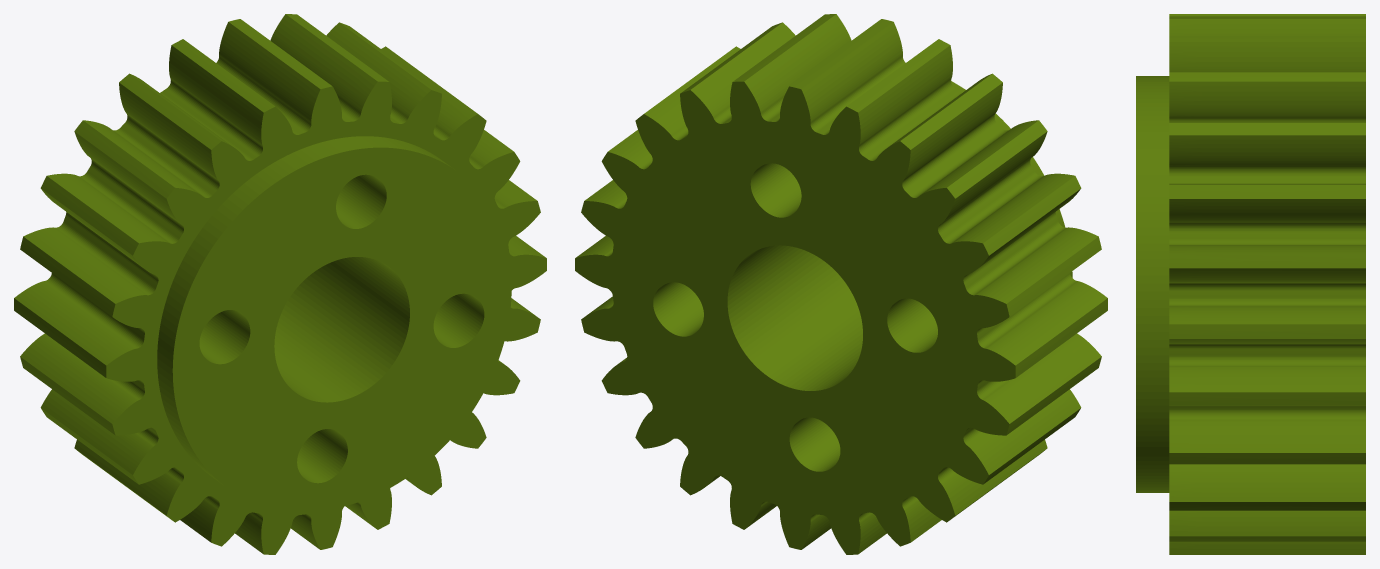
Rendered from spur-gear__v0.glb.
3 renders of one model, left to right at view 1: azimuth 30°, elevation 25°; view 2: azimuth 150°, elevation 25°; view 3: azimuth 270°, elevation 25°, orthographic. The views are drawn at different scales.
Visible parts, largest first — view 1: spur-gear; view 2: spur-gear; view 3: spur-gear.
Boxes of the visible parts, <box> form: spur-gear: <box>14,14,546,554</box>; spur-gear: <box>575,14,1107,554</box>; spur-gear: <box>1136,14,1365,554</box>.
Size of the model in its own units: 0.026 by 0.026 by 0.011.
